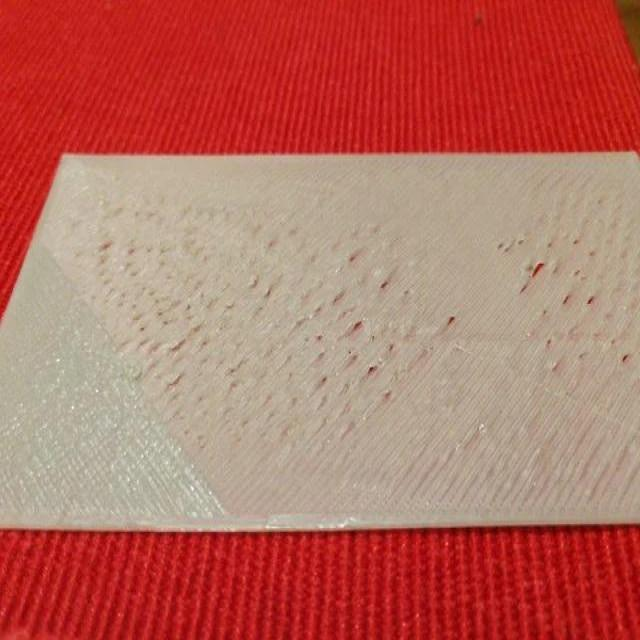spaghetti: (83, 204, 487, 466), (474, 200, 640, 408)
